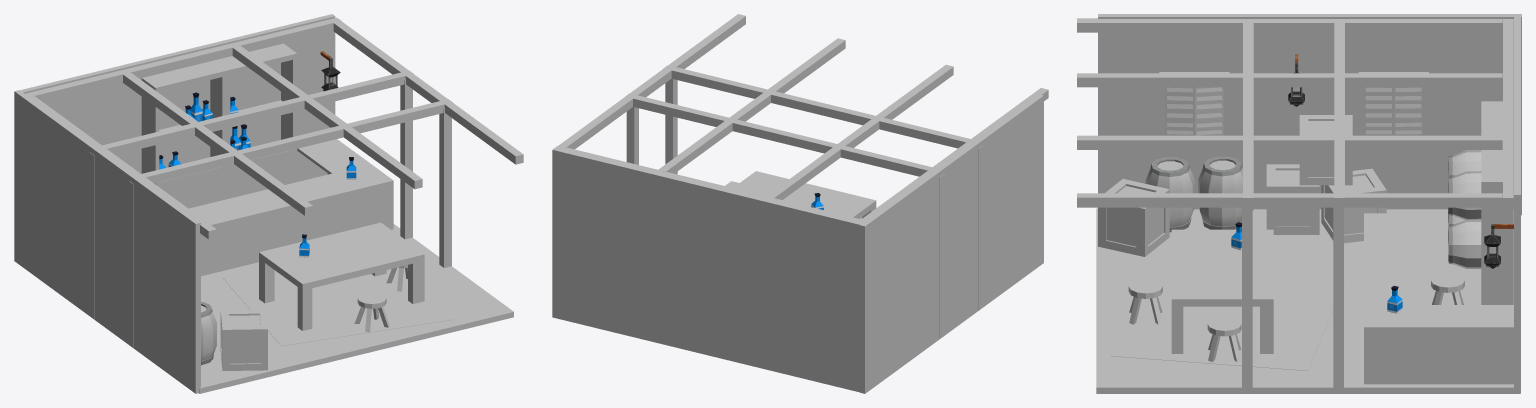
The model's file is Tanvern Diorama.fbx.
3 renders of one model, left to right at view 1: azimuth 30°, elevation 25°; view 2: azimuth 150°, elevation 25°; view 3: azimuth 270°, elevation 25°, orthographic. The views are drawn at different scales.
Parts seen in each view (by area): view 1: pasted__pasted__pCube1, Bar_uvd, ground, pasted__pCube1, floord, table_uvd, cabinet1_uvd, pasted__cabinet1, pasted__pasted__pasted__pCube3 (×3), pasted__top3, pasted__pCube3, top3 (+7 smaller); view 2: pasted__pCube1, pasted__pasted__pCube1, pasted__pasted__pasted__pCube3 (×3), top3, pasted__pCube3, pasted__pasted__pCube4, pasted__pCube4, table_uvd, pasted__pasted__pCube3 (×2), pasted__top3, pasted__pasted__pasted__pasted__pCube3; view 3: pasted__pasted__pCube1, ground, Bar_uvd, floord, table_uvd, pasted__pasted__pasted__pCube3 (×2), pasted__Box_uvd (×2), pasted__pCube4, pasted__pasted__pCube4, pasted__pasted__pCube3, pasted__cabinet1, Box_uvd (+21 smaller).
Boxes of the visible parts, <box> form: pasted__pasted__pCube1: <box>14,90,200,393</box>; Bar_uvd: <box>189,139,393,276</box>; ground: <box>199,224,513,393</box>; pasted__pCube1: <box>20,14,335,181</box>; floord: <box>223,267,453,346</box>; table_uvd: <box>259,222,424,330</box>; cabinet1_uvd: <box>141,61,226,208</box>; pasted__cabinet1: <box>213,43,297,199</box>; pasted__pasted__pasted__pCube3 (×3): <box>89,72,412,318</box>; pasted__top3: <box>25,17,341,101</box>; pasted__pCube3: <box>136,99,452,183</box>; top3: <box>98,70,413,154</box>; pasted__pCube1: <box>552,147,862,392</box>; pasted__pasted__pCube1: <box>860,94,1043,393</box>; pasted__pasted__pasted__pCube3 (×3): <box>626,64,953,338</box>; top3: <box>625,93,936,176</box>; pasted__pCube3: <box>663,65,974,148</box>; pasted__pasted__pCube4: <box>658,38,845,173</box>; pasted__pCube4: <box>559,14,745,149</box>; table_uvd: <box>733,171,876,218</box>; pasted__pasted__pCube3 (×2): <box>861,88,1048,310</box>; pasted__top3: <box>555,145,865,222</box>; pasted__pasted__pasted__pasted__pCube3: <box>665,78,677,174</box>; pasted__pasted__pCube1: <box>1098,14,1521,215</box>; ground: <box>1096,208,1520,393</box>; Bar_uvd: <box>1364,213,1513,384</box>; floord: <box>1111,266,1344,370</box>; table_uvd: <box>1171,229,1273,353</box>; pasted__pasted__pasted__pCube3 (×2): <box>1077,73,1502,392</box>; pasted__Box_uvd (×2): <box>1098,115,1352,256</box>; pasted__pCube4: <box>1077,193,1502,207</box>; pasted__pasted__pCube4: <box>1077,135,1502,149</box>; pasted__pasted__pCube3: <box>1077,18,1502,32</box>; pasted__cabinet1: <box>1481,142,1513,304</box>; Box_uvd: <box>1266,164,1319,234</box>.
Size of the model in its own units: 14.5 by 7.38 by 14.95.
